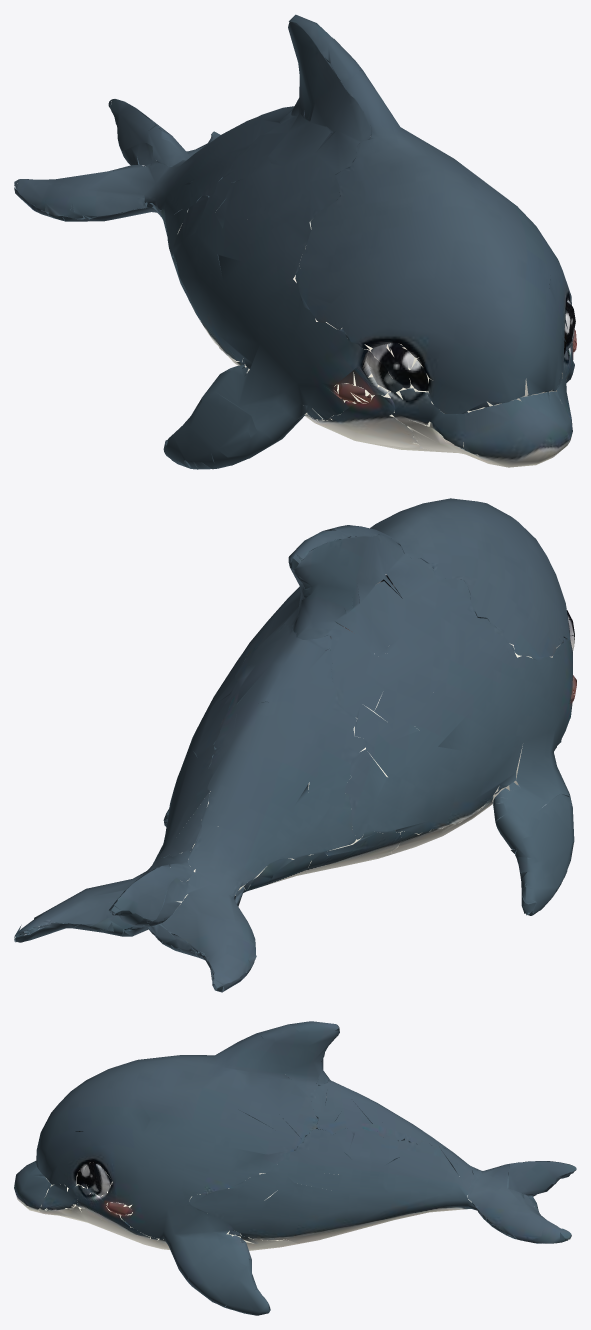
Rendered from dolphin.glb.
The picture shows the model from 3 angles, top to bottom: view 1: azimuth 30°, elevation 25°; view 2: azimuth 150°, elevation 25°; view 3: azimuth 270°, elevation 25°; orthographic projection. The views are drawn at different scales.
Parts seen in each view (by area): view 1: model; view 2: model; view 3: model.
Boxes of the visible parts, bbox=[...] form: model: bbox=[14, 14, 576, 469]; model: bbox=[14, 498, 576, 992]; model: bbox=[14, 1021, 576, 1315].
Bounding box in the file's own units: 0.944 × 0.8809 × 1.9.
Materials: 1 (1 with a texture image).
